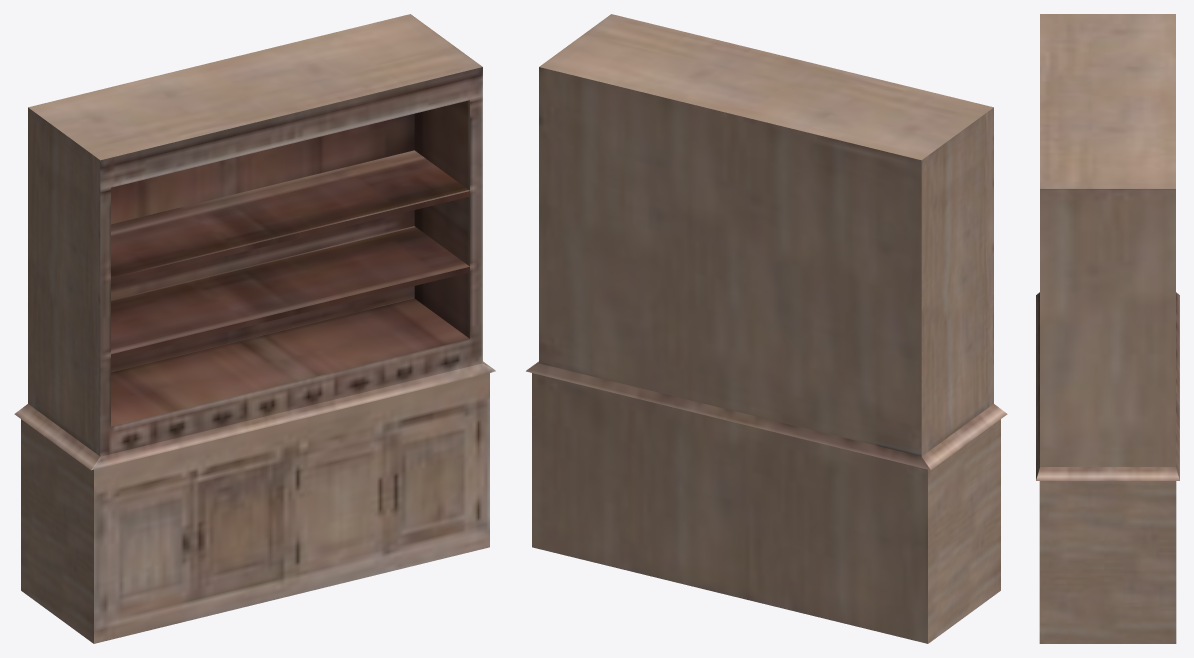
File: Shelf.gltf
3 views of the same model, side by side, from view 1: azimuth 30°, elevation 25°; view 2: azimuth 150°, elevation 25°; view 3: azimuth 270°, elevation 25° (orthographic). The views are drawn at different scales.
Parts seen in each view (by area): view 1: Fitment_02; view 2: Fitment_02; view 3: Fitment_02.
Part boxes in pixels (x1,y1,x2,y2): Fitment_02: (14,14,495,643); Fitment_02: (526,14,1007,643); Fitment_02: (1036,14,1179,643).
Size of the model in its own units: 1.7 by 1.93 by 0.5579.
1 material, 1 textured.
